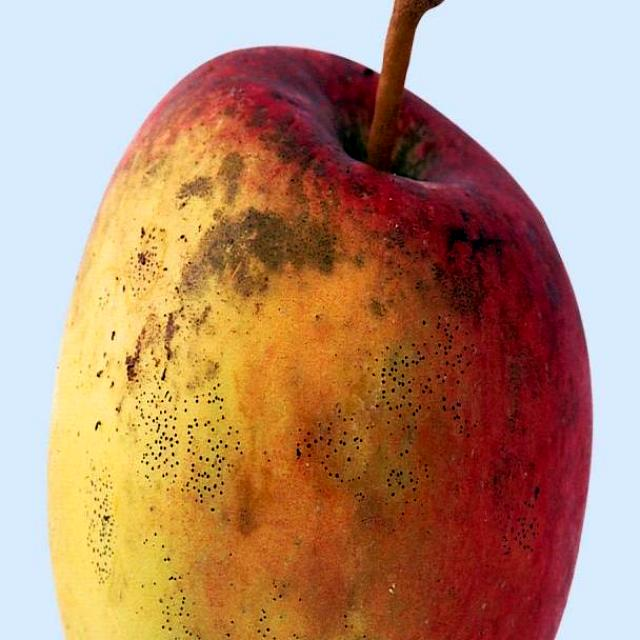BLOTCH: (35, 44, 593, 614)
